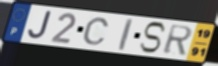2: (49, 12, 77, 45)
C: (81, 16, 110, 46)
I: (118, 17, 135, 52)
J: (27, 11, 53, 41)
R: (161, 24, 194, 57)
S: (138, 21, 167, 55)
